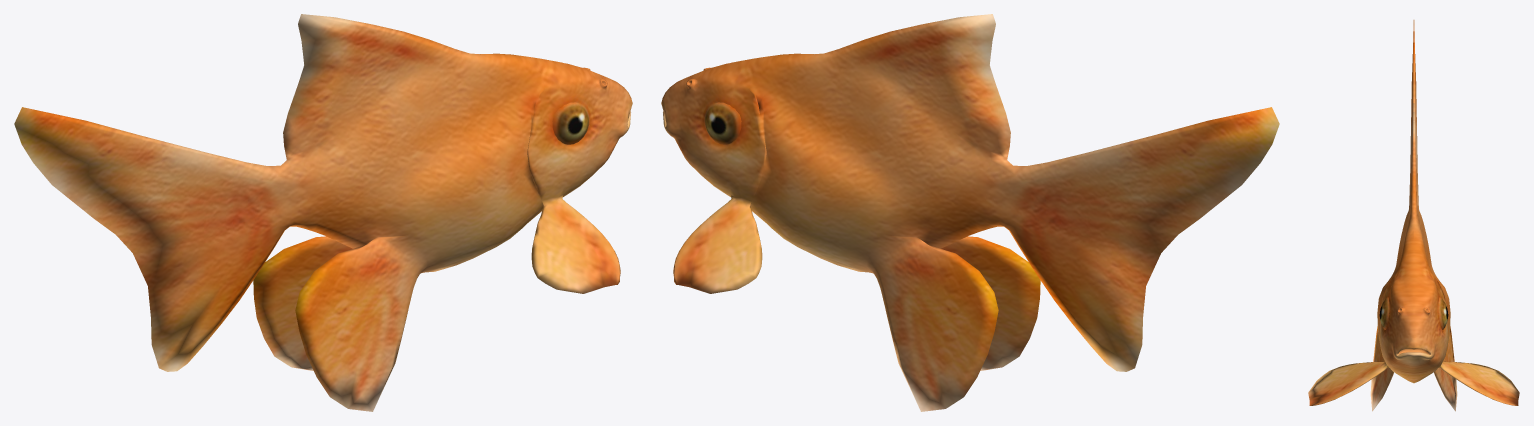
Rendered from GOLDFISH.OBJ.
3 views of the same model, side by side, from view 1: azimuth 30°, elevation 25°; view 2: azimuth 150°, elevation 25°; view 3: azimuth 270°, elevation 25° (orthographic). The views are drawn at different scales.
Visible parts, largest first — view 1: GOLDFISH.001; view 2: GOLDFISH.001; view 3: GOLDFISH.001.
Part boxes in pixels (bbox=[...]): GOLDFISH.001: bbox=[14, 14, 632, 411]; GOLDFISH.001: bbox=[661, 14, 1279, 411]; GOLDFISH.001: bbox=[1308, 20, 1519, 411].
Size of the model in its own units: 703 by 423 by 274.
Materials: 1 (1 with a texture image).
